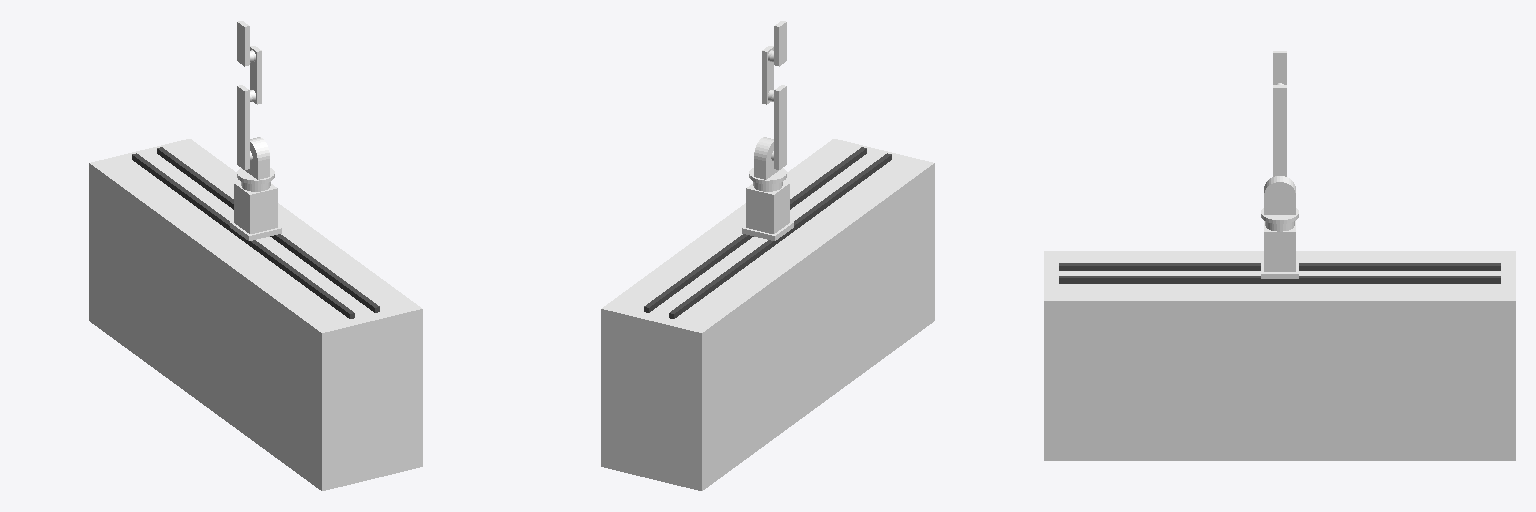
URDF robot description (linear_slide):
<?xml version="1.0" encoding="utf-8"?>
<!-- =================================================================================== -->
<!-- |    This document was autogenerated by xacro from linear_slide_rail.urdf.xacro   | -->
<!-- |    EDITING THIS FILE BY HAND IS NOT RECOMMENDED                                 | -->
<!-- =================================================================================== -->
<robot name="linear_slide" xmlns:xacro="http://ros.org/wiki/xacro">
  <material name="gray">
    <color rgba="0.392156862745 0.392156862745 0.392156862745 1.0"/>
  </material>
  <material name="white">
    <color rgba="1.0 1.0 1.0 1.0"/>
  </material>
  <material name="blue">
    <color rgba="0.0 0.0 0.901960784314 1.0"/>
  </material>
  <link name="base_link">
    <visual>
      <geometry>
        <box size="0.4 1.6 0.6"/>
      </geometry>
      <material name="white"/>
    </visual>
    <collision>
      <geometry>
        <box size="0.4 1.6 0.6"/>
      </geometry>
    </collision>
    <inertial>
      <mass value="10"/>
      <inertia ixx="1.0" ixy="0.0" ixz="0.0" iyy="1.0" iyz="0.0" izz="1.0"/>
    </inertial>
  </link>
  <link name="r_slide_rail">
    <visual>
      <geometry>
        <box size="0.02 1.5 0.02"/>
      </geometry>
      <origin rpy="0 0 0" xyz="0 0 0.01"/>
      <material name="gray"/>
    </visual>
    <collision>
      <geometry>
        <box size="0.02 1.5 0.02"/>
      </geometry>
      <origin rpy="0 0 0" xyz="0 0 0.01"/>
    </collision>
    <inertial>
      <mass value="1"/>
      <inertia ixx="1.0" ixy="0.0" ixz="0.0" iyy="1.0" iyz="0.0" izz="1.0"/>
    </inertial>
  </link>
  <joint name="base_to_r_slide_rail" type="fixed">
    <parent link="base_link"/>
    <child link="r_slide_rail"/>
    <origin rpy="0 0 0" xyz="0.05 0 0.3"/>
  </joint>
  <link name="l_slide_rail">
    <visual>
      <geometry>
        <box size="0.02 1.5 0.02"/>
      </geometry>
      <origin rpy="0 0 0" xyz="0 0 0.01"/>
      <material name="gray"/>
    </visual>
    <collision>
      <geometry>
        <box size="0.02 1.5 0.02"/>
      </geometry>
      <origin rpy="0 0 0" xyz="0 0 0.01"/>
    </collision>
    <inertial>
      <mass value="1"/>
      <inertia ixx="1.0" ixy="0.0" ixz="0.0" iyy="1.0" iyz="0.0" izz="1.0"/>
    </inertial>
  </link>
  <joint name="base_to_l_slide_rail" type="fixed">
    <parent link="base_link"/>
    <child link="l_slide_rail"/>
    <origin rpy="0 0 0" xyz="-0.05 0 0.3"/>
  </joint>
  <joint name="j1_slide_block" type="prismatic">
    <parent link="r_slide_rail"/>
    <child link="slide_block_base"/>
    <limit effort="1000.0" lower="-0.7" upper="0.7" velocity="0.5"/>
    <origin xyz="-0.05 0 0.02"/>
    <dynamics damping="0.0" friction="0.0"/>
    <axis xyz="0 1 0"/>
  </joint>
  <link name="slide_block_base">
    <visual>
      <geometry>
        <box size="0.13 0.13 0.02"/>
      </geometry>
      <origin xyz="0 0 0.01"/>
      <material name="white"/>
    </visual>
    <collision>
      <geometry>
        <box size="0.13 0.13 0.02"/>
      </geometry>
      <origin xyz="0 0 0.01"/>
    </collision>
    <inertial>
      <mass value="0.05"/>
      <inertia ixx="1.0" ixy="0.0" ixz="0.0" iyy="1.0" iyz="0.0" izz="1.0"/>
    </inertial>
  </link>
  <transmission name="j1_slide_block_trans">
    <type>transmission_interface/SimpleTransmission</type>
    <actuator name="j1_slide_block_motor">
      <mechanicalReduction>1</mechanicalReduction>
    </actuator>
    <joint name="j1_slide_block">
      <hardwareInterface>PositionJointInterface</hardwareInterface>
    </joint>
  </transmission>
  <joint name="slide_block_to_j2block1" type="fixed">
    <parent link="slide_block_base"/>
    <child link="j2_block1"/>
    <origin xyz="0 0 0.02"/>
  </joint>
  <link name="j2_block1">
    <visual>
      <geometry>
        <box size="0.11 0.11 0.15"/>
      </geometry>
      <origin xyz="0 0 0.075"/>
      <material name="white"/>
    </visual>
    <collision>
      <geometry>
        <box size="0.11 0.11 0.15"/>
      </geometry>
      <origin xyz="0 0 0.075"/>
    </collision>
    <inertial>
      <mass value="0.05"/>
      <inertia ixx="1.0" ixy="0.0" ixz="0.0" iyy="1.0" iyz="0.0" izz="1.0"/>
    </inertial>
  </link>
  <joint name="j2_joint" type="revolute">
    <parent link="j2_block1"/>
    <child link="j2_block2"/>
    <limit effort="1000.0" lower="-2.356125" upper="2.356125" velocity="0.5"/>
    <origin xyz="0 0 0.15"/>
    <dynamics damping="0.0" friction="0.0"/>
    <axis xyz="0 0 1"/>
  </joint>
  <link name="j2_block2">
    <visual>
      <geometry>
        <cylinder length="0.07" radius="0.05"/>
      </geometry>
      <origin rpy="0 0 0" xyz="0 0 0"/>
      <material name="white"/>
    </visual>
    <collision>
      <geometry>
        <cylinder length="0.07" radius="0.05"/>
      </geometry>
      <origin rpy="0 0 0" xyz="0 0 0"/>
    </collision>
    <inertial>
      <mass value="0.05"/>
      <inertia ixx="1.0" ixy="0.0" ixz="0.0" iyy="1.0" iyz="0.0" izz="1.0"/>
    </inertial>
  </link>
  <joint name="j2block2_to_3" type="fixed">
    <parent link="j2_block2"/>
    <child link="j2_block3"/>
    <origin xyz="0 0 0.035"/>
  </joint>
  <link name="j2_block3">
    <visual>
      <geometry>
        <cylinder length="0.015" radius="0.065"/>
      </geometry>
      <origin rpy="0 0 0" xyz="0 0 0.0075"/>
      <material name="white"/>
    </visual>
    <collision>
      <geometry>
        <cylinder length="0.015" radius="0.065"/>
      </geometry>
      <origin rpy="0 0 0" xyz="0 0 0.0075"/>
    </collision>
    <inertial>
      <mass value="0.05"/>
      <inertia ixx="1.0" ixy="0.0" ixz="0.0" iyy="1.0" iyz="0.0" izz="1.0"/>
    </inertial>
  </link>
  <joint name="j2block3_to_4" type="fixed">
    <parent link="j2_block3"/>
    <child link="j2_block4"/>
    <origin xyz="0 0 0.015"/>
  </joint>
  <link name="j2_block4">
    <visual>
      <geometry>
        <box size="0.05 0.11 0.07"/>
      </geometry>
      <origin rpy="0 0 0" xyz="0 0 0.035"/>
      <material name="white"/>
    </visual>
    <collision>
      <geometry>
        <box size="0.05 0.11 0.07"/>
      </geometry>
      <origin rpy="0 0 0" xyz="0 0 0.035"/>
    </collision>
    <inertial>
      <mass value="0.05"/>
      <inertia ixx="1.0" ixy="0.0" ixz="0.0" iyy="1.0" iyz="0.0" izz="1.0"/>
    </inertial>
  </link>
  <joint name="j2block4_to_5" type="fixed">
    <parent link="j2_block4"/>
    <child link="j2_block5"/>
    <origin xyz="0 0 0.07"/>
  </joint>
  <link name="j2_block5">
    <visual>
      <geometry>
        <cylinder length="0.05" radius="0.055"/>
      </geometry>
      <origin rpy="0 1.57075 0" xyz="0 0 0"/>
      <material name="white"/>
    </visual>
    <collision>
      <geometry>
        <cylinder length="0.05" radius="0.055"/>
      </geometry>
      <origin rpy="0 1.57075 0" xyz="0 0 0"/>
    </collision>
    <inertial>
      <mass value="0.05"/>
      <inertia ixx="1.0" ixy="0.0" ixz="0.0" iyy="1.0" iyz="0.0" izz="1.0"/>
    </inertial>
  </link>
  <joint name="j3_joint" type="revolute">
    <parent link="j2_block5"/>
    <child link="j3_block1"/>
    <limit effort="1000.0" lower="-2.356125" upper="2.356125" velocity="0.5"/>
    <origin xyz="0 0 0"/>
    <dynamics damping="0.0" friction="0.0"/>
    <axis xyz="1 0 0"/>
  </joint>
  <link name="j3_block1">
    <visual>
      <geometry>
        <cylinder length="0.05" radius="0.02"/>
      </geometry>
      <origin rpy="0 1.57075 0" xyz="-0.025 0 0"/>
      <material name="white"/>
    </visual>
    <collision>
      <geometry>
        <cylinder length="0.05" radius="0.02"/>
      </geometry>
      <origin rpy="0 1.57075 0" xyz="-0.025 0 0"/>
    </collision>
    <inertial>
      <mass value="0.05"/>
      <inertia ixx="1.0" ixy="0.0" ixz="0.0" iyy="1.0" iyz="0.0" izz="1.0"/>
    </inertial>
  </link>
  <joint name="j3block1_to_2" type="fixed">
    <parent link="j3_block1"/>
    <child link="j3_block2"/>
    <origin xyz="-0.05 0 0"/>
  </joint>
  <link name="j3_block2">
    <visual>
      <geometry>
        <box size="0.02 0.05 0.3"/>
      </geometry>
      <origin rpy="0 0 0" xyz="0 0 0.1125"/>
      <material name="white"/>
    </visual>
    <collision>
      <geometry>
        <box size="0.02 0.05 0.3"/>
      </geometry>
      <origin rpy="0 0 0" xyz="0 0 0.1125"/>
    </collision>
    <inertial>
      <mass value="0.05"/>
      <inertia ixx="1.0" ixy="0.0" ixz="0.0" iyy="1.0" iyz="0.0" izz="1.0"/>
    </inertial>
  </link>
  <joint name="j4_joint" type="revolute">
    <parent link="j3_block2"/>
    <child link="j4_block1"/>
    <limit effort="1000.0" lower="-2.356125" upper="2.356125" velocity="0.5"/>
    <origin xyz="0 0 0.225"/>
    <dynamics damping="0.0" friction="0.0"/>
    <axis xyz="1 0 0"/>
  </joint>
  <link name="j4_block1">
    <visual>
      <geometry>
        <cylinder length="0.05" radius="0.02"/>
      </geometry>
      <origin rpy="0 1.57075 0" xyz="0.025 0 0"/>
      <material name="white"/>
    </visual>
    <collision>
      <geometry>
        <cylinder length="0.05" radius="0.02"/>
      </geometry>
      <origin rpy="0 1.57075 0" xyz="0.025 0 0"/>
    </collision>
    <inertial>
      <mass value="0.05"/>
      <inertia ixx="1.0" ixy="0.0" ixz="0.0" iyy="1.0" iyz="0.0" izz="1.0"/>
    </inertial>
  </link>
  <joint name="j4block1_to_2" type="fixed">
    <parent link="j4_block1"/>
    <child link="j4_block2"/>
    <origin xyz="0.05 0 0"/>
  </joint>
  <link name="j4_block2">
    <visual>
      <geometry>
        <box size="0.02 0.05 0.2"/>
      </geometry>
      <origin rpy="0 0 0" xyz="0 0 0.075"/>
      <material name="white"/>
    </visual>
    <collision>
      <geometry>
        <box size="0.02 0.05 0.2"/>
      </geometry>
      <origin rpy="0 0 0" xyz="0 0 0.075"/>
    </collision>
    <inertial>
      <mass value="0.05"/>
      <inertia ixx="1.0" ixy="0.0" ixz="0.0" iyy="1.0" iyz="0.0" izz="1.0"/>
    </inertial>
  </link>
  <joint name="j5_joint" type="revolute">
    <parent link="j4_block2"/>
    <child link="j5_block1"/>
    <limit effort="1000.0" lower="-2.356125" upper="2.356125" velocity="0.5"/>
    <origin xyz="0 0 0.15"/>
    <dynamics damping="0.0" friction="0.0"/>
    <axis xyz="1 0 0"/>
  </joint>
  <link name="j5_block1">
    <visual>
      <geometry>
        <cylinder length="0.05" radius="0.02"/>
      </geometry>
      <origin rpy="0 1.57075 0" xyz="-0.025 0 0"/>
      <material name="white"/>
    </visual>
    <collision>
      <geometry>
        <cylinder length="0.05" radius="0.02"/>
      </geometry>
      <origin rpy="0 1.57075 0" xyz="-0.025 0 0"/>
    </collision>
    <inertial>
      <mass value="0.05"/>
      <inertia ixx="1.0" ixy="0.0" ixz="0.0" iyy="1.0" iyz="0.0" izz="1.0"/>
    </inertial>
  </link>
  <joint name="j5block1_to_2" type="fixed">
    <parent link="j5_block1"/>
    <child link="j5_block2"/>
    <origin xyz="-0.05 0 0"/>
  </joint>
  <link name="j5_block2">
    <visual>
      <geometry>
        <box size="0.02 0.05 0.15"/>
      </geometry>
      <origin rpy="0 0 0" xyz="0 0 0.05625"/>
      <material name="white"/>
    </visual>
    <collision>
      <geometry>
        <box size="0.02 0.05 0.15"/>
      </geometry>
      <origin rpy="0 0 0" xyz="0 0 0.05625"/>
    </collision>
    <inertial>
      <mass value="0.05"/>
      <inertia ixx="1.0" ixy="0.0" ixz="0.0" iyy="1.0" iyz="0.0" izz="1.0"/>
    </inertial>
  </link>
</robot>

--- Render facts (derived) ---
3 views of the same robot in one strip: view 1: azimuth 30°, elevation 25°; view 2: azimuth 150°, elevation 25°; view 3: azimuth 270°, elevation 25° (orthographic).
Model linear_slide with 15 links and 14 joints (4 revolute, 1 prismatic, 9 fixed), rooted at base_link, posed every joint at zero.
Visible links, largest first — view 1: base_link, l_slide_rail, j2_block1, r_slide_rail, j3_block2, j5_block2, j4_block2; view 2: base_link, l_slide_rail, j2_block1, r_slide_rail, j3_block2, j5_block2, j4_block2; view 3: base_link, r_slide_rail, l_slide_rail, j2_block1, j2_block5, j4_block2.
Boxes of the visible links, bbox=[...] form: base_link: bbox=[89, 139, 422, 490]; l_slide_rail: bbox=[132, 153, 354, 318]; j2_block1: bbox=[234, 182, 277, 233]; r_slide_rail: bbox=[157, 147, 379, 312]; j3_block2: bbox=[237, 85, 249, 169]; j5_block2: bbox=[237, 21, 249, 66]; j4_block2: bbox=[250, 46, 261, 104]; base_link: bbox=[601, 139, 934, 490]; l_slide_rail: bbox=[669, 153, 891, 318]; j2_block1: bbox=[746, 182, 789, 233]; r_slide_rail: bbox=[644, 147, 866, 312]; j3_block2: bbox=[774, 85, 786, 169]; j5_block2: bbox=[774, 21, 786, 66]; j4_block2: bbox=[762, 46, 773, 104]; base_link: bbox=[1044, 251, 1515, 460]; r_slide_rail: bbox=[1059, 276, 1500, 283]; l_slide_rail: bbox=[1059, 263, 1500, 270]; j2_block1: bbox=[1264, 221, 1295, 271]; j2_block5: bbox=[1264, 176, 1295, 210]; j4_block2: bbox=[1273, 85, 1286, 140].
Bounding box of the posed robot: 0.4 × 1.6 × 1.42 m (x, y, z).
Geometry: primitives only (box / cylinder / sphere), no mesh files.